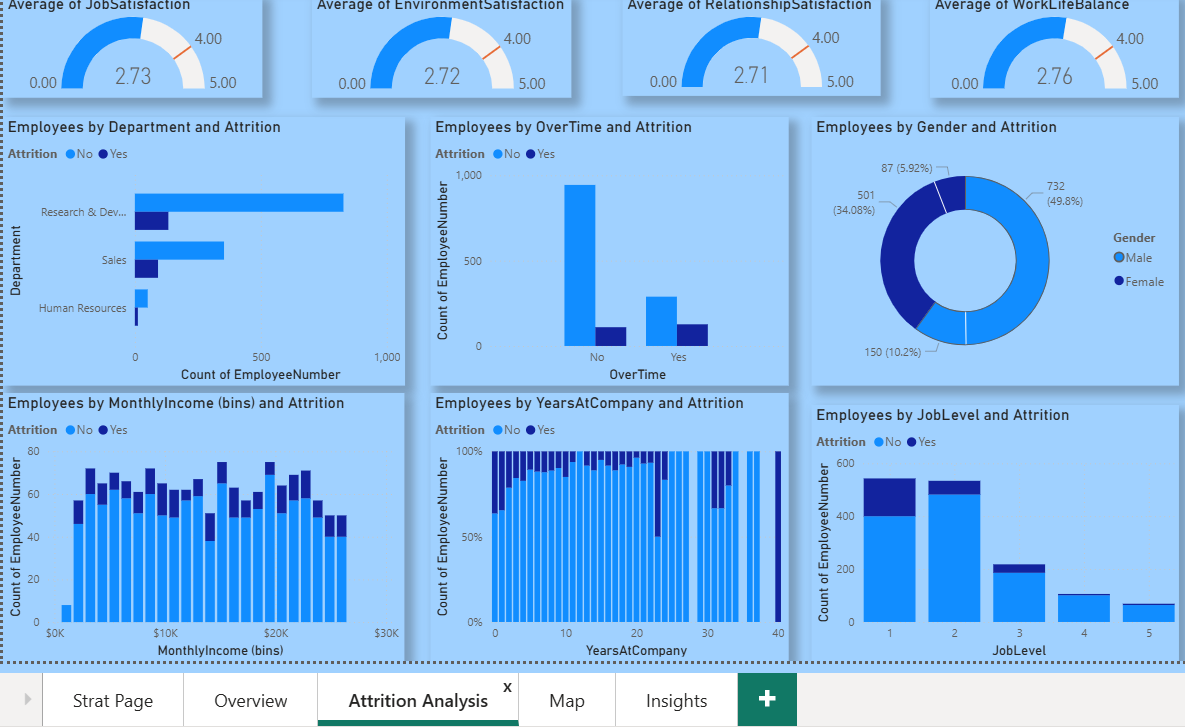

The dashboard page shown, as its layout file describes it:
{"tool":"powerbi","page":{"name":"Attrition Analysis","canvas":[1280,720],"ordinal":2},"visuals":[{"type":"clusteredColumnChart","title":"Employees by OverTime and Attrition","fields":{"Category":["HRIS.OverTime"],"Series":["HRIS.Attrition"],"Y":["CountNonNull(HRIS.EmployeeNumber)"]},"box":[461.5,132.8,387,289.8],"z":0},{"type":"clusteredBarChart","title":"Employees by Department and Attrition","fields":{"Category":["HRIS.Department"],"Series":["HRIS.Attrition"],"Y":["CountNonNull(HRIS.EmployeeNumber)"]},"box":[0,132.8,434,289.8],"z":1000},{"type":"donutChart","title":"Employees by Gender and Attrition","fields":{"Category":["HRIS.Gender"],"Series":["HRIS.Attrition"],"Y":["CountNonNull(HRIS.EmployeeNumber)"]},"box":[872.8,132.8,396.7,289.8],"z":2000},{"type":"columnChart","title":"Employees by JobLevel and Attrition","fields":{"Category":["HRIS.JobLevel"],"Series":["HRIS.Attrition"],"Y":["CountNonNull(HRIS.EmployeeNumber)"]},"box":[872.8,443.7,396.7,276.9],"z":3000},{"type":"columnChart","title":"Employees by MonthlyIncome (bins) and Attrition","fields":{"Category":["HRIS.MonthlyIncome (bins)"],"Y":["CountNonNull(HRIS.EmployeeNumber)"],"Series":["HRIS.Attrition"]},"box":[0,430,433.3,290],"z":4000},{"type":"hundredPercentStackedColumnChart","title":"Employees by YearsAtCompany and Attrition","fields":{"Category":["HRIS.YearsAtCompany"],"Y":["CountNonNull(HRIS.EmployeeNumber)"],"Series":["HRIS.Attrition"]},"box":[461.5,430.7,387,289.8],"z":5000},{"type":"gauge","fields":{"Y":["Avg(Engagement Survey.JobSatisfaction)"]},"box":[0,0,280,111.7],"z":6000},{"type":"gauge","fields":{"Y":["Avg(Engagement Survey.EnvironmentSatisfaction)"]},"box":[334,0,280.1,111.7],"z":6002},{"type":"gauge","fields":{"Y":["Avg(Engagement Survey.RelationshipSatisfaction)"]},"box":[668.2,0,278.5,110.1],"z":6003},{"type":"gauge","fields":{"Y":["Avg(Engagement Survey.WorkLifeBalance)"]},"box":[1000.7,0,268.8,111.7],"z":6004}]}

Visuals, with their boxes on the page's 1280x720 design canvas (x1, y1, x2, y2). These are canvas units, not pixel positions in the 1185x727 screenshot, which may show the page scaled, cropped or inside an application window:
"Employees by OverTime and Attrition" clusteredColumnChart: x1=462, y1=133, x2=848, y2=423
"Employees by Department and Attrition" clusteredBarChart: x1=0, y1=133, x2=434, y2=423
"Employees by Gender and Attrition" donutChart: x1=873, y1=133, x2=1270, y2=423
"Employees by JobLevel and Attrition" columnChart: x1=873, y1=444, x2=1270, y2=721
"Employees by MonthlyIncome (bins) and Attrition" columnChart: x1=0, y1=430, x2=433, y2=720
"Employees by YearsAtCompany and Attrition" hundredPercentStackedColumnChart: x1=462, y1=431, x2=848, y2=720
gauge - Avg(Engagement Survey.JobSatisfaction): x1=0, y1=0, x2=280, y2=112
gauge - Avg(Engagement Survey.EnvironmentSatisfaction): x1=334, y1=0, x2=614, y2=112
gauge - Avg(Engagement Survey.RelationshipSatisfaction): x1=668, y1=0, x2=947, y2=110
gauge - Avg(Engagement Survey.WorkLifeBalance): x1=1001, y1=0, x2=1270, y2=112
